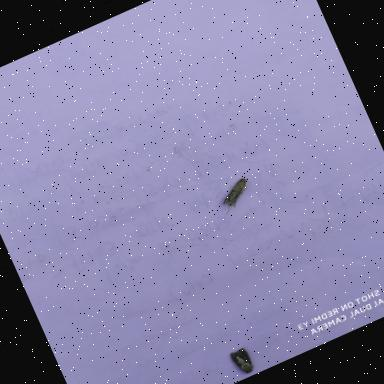pbw: (212, 174, 258, 216), (227, 343, 259, 380)
